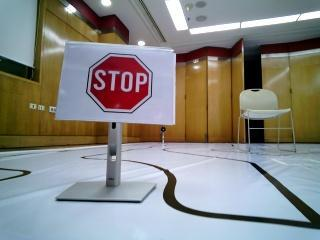stop: (65, 39, 170, 116)
